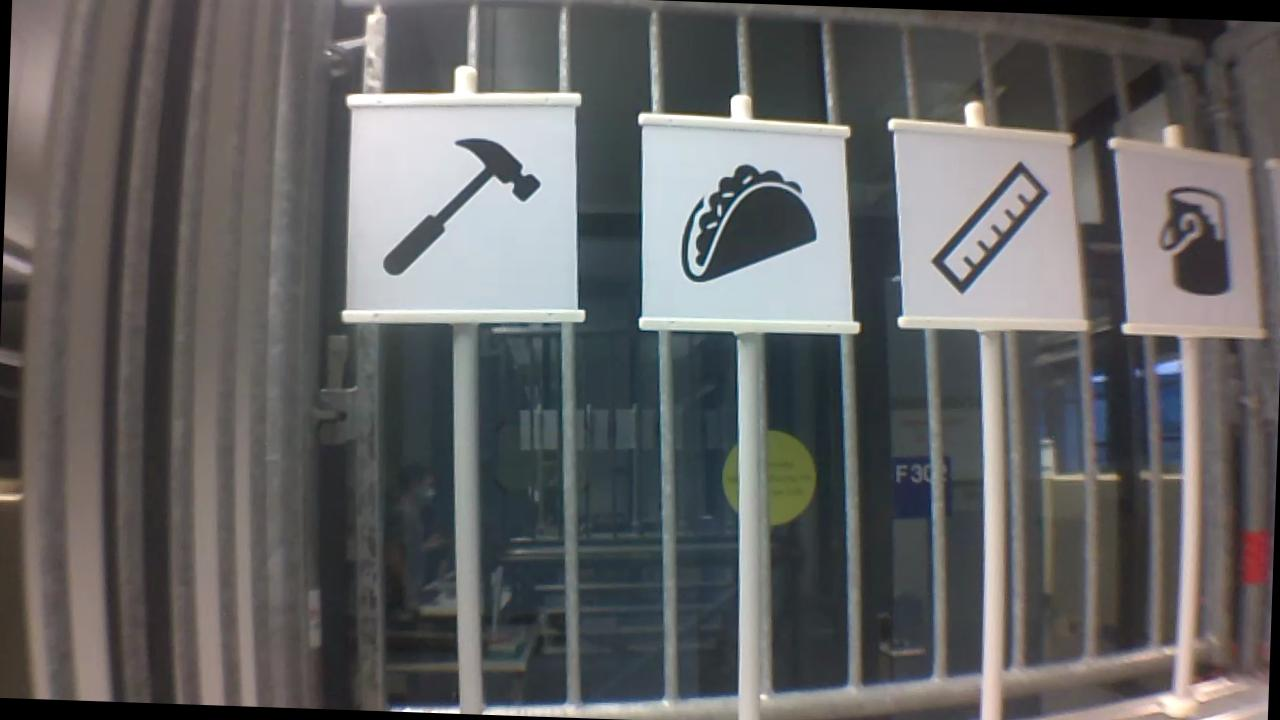bucket: (1146, 178, 1238, 298)
hammer: (373, 128, 544, 284)
ruler: (921, 148, 1057, 301)
taco: (672, 156, 827, 290)
